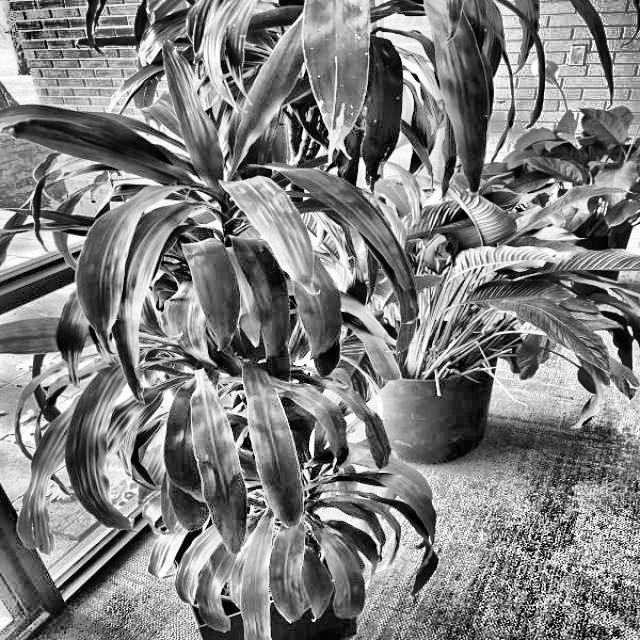plants: (76, 25, 440, 614), (398, 48, 612, 448)
